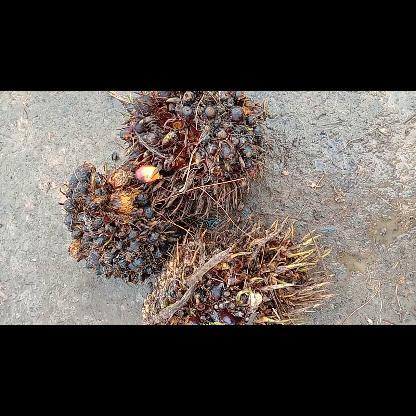TBS abnormal: (142, 214, 332, 324), (120, 91, 266, 219), (61, 162, 182, 284)
